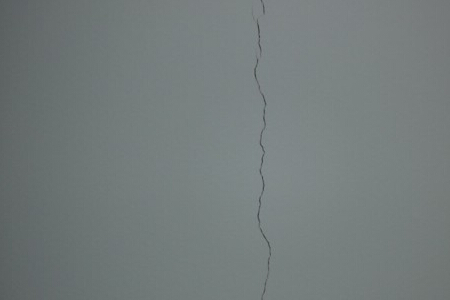crack: (232, 1, 302, 300)
